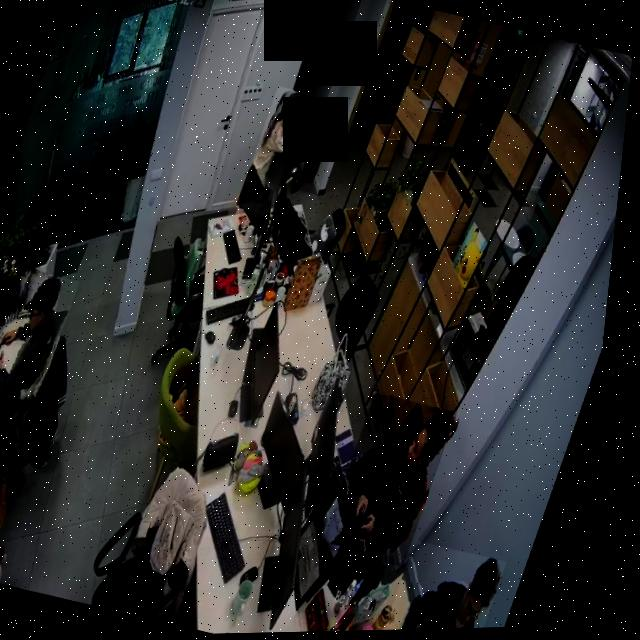person: (330, 393, 468, 570), (0, 266, 87, 430), (387, 540, 520, 632), (239, 87, 312, 216)
